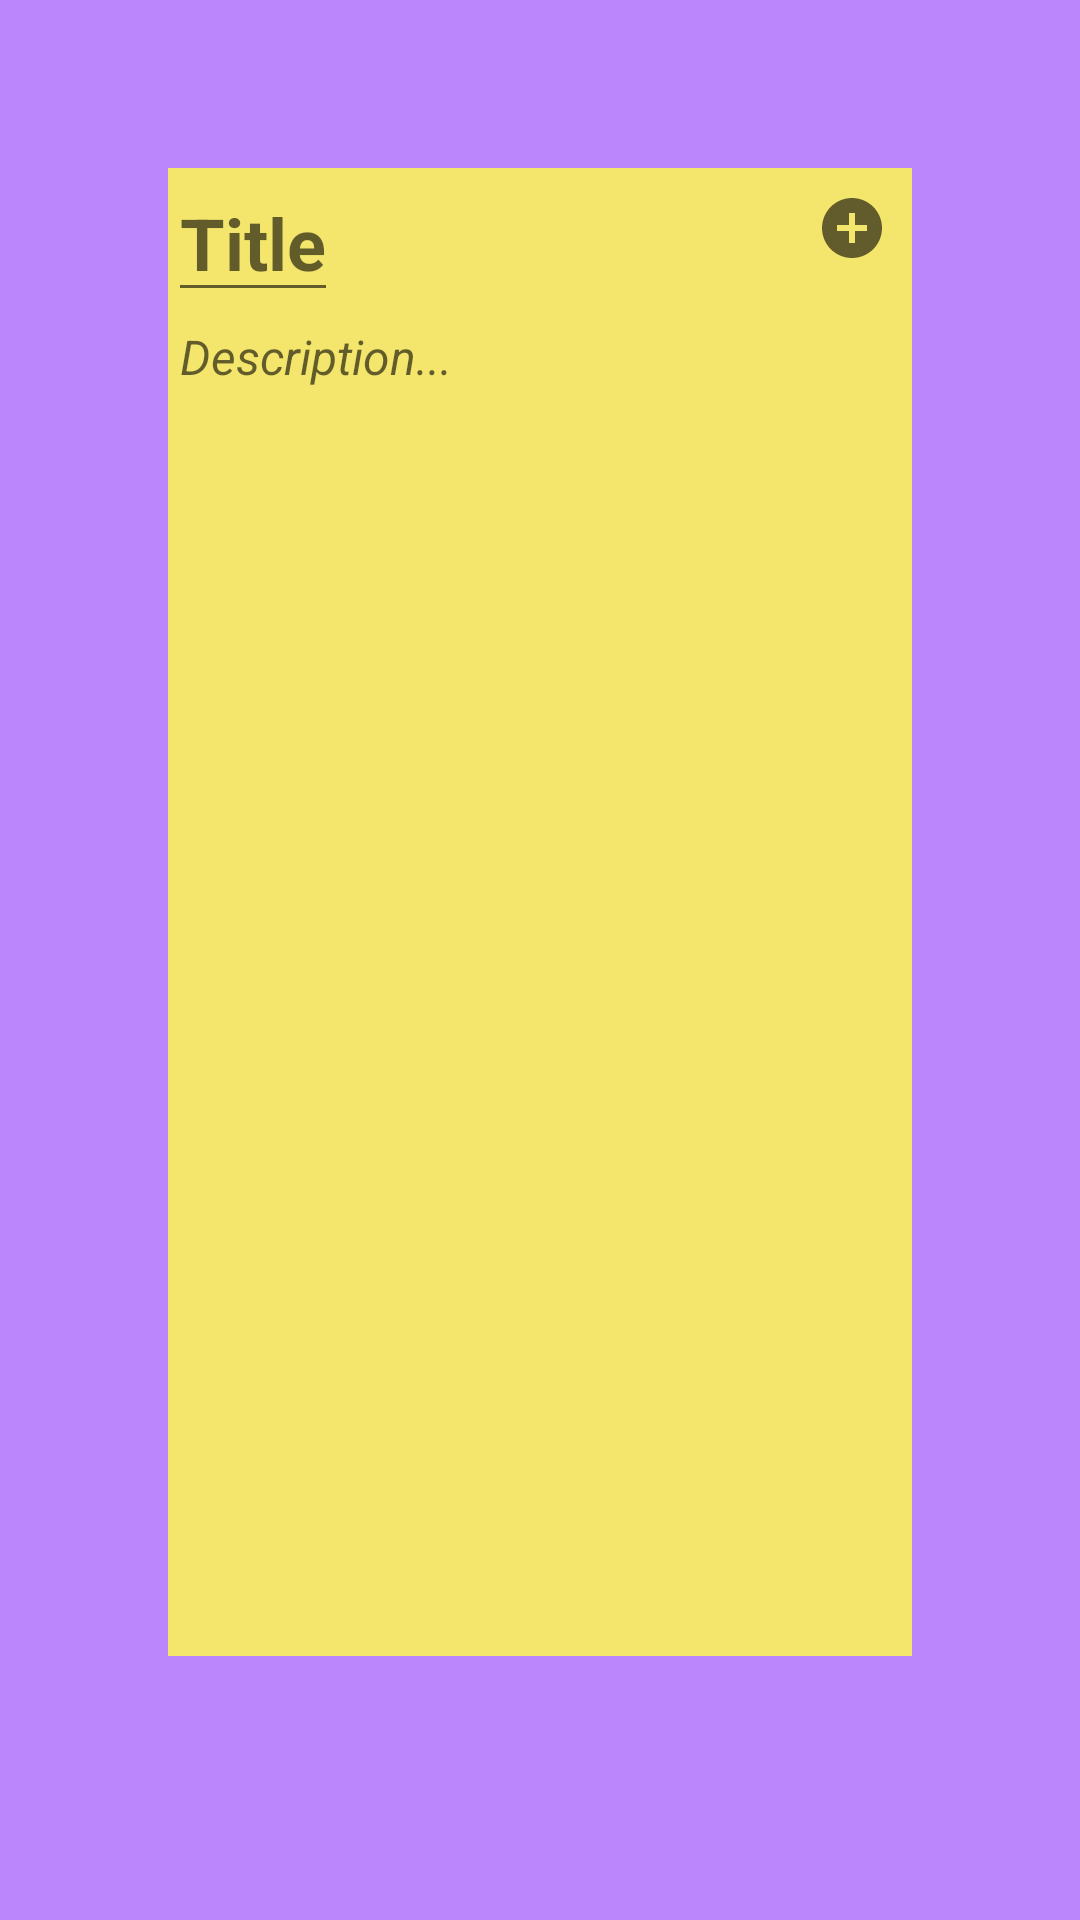

Named icons in this screenshot (1080w x 1920h) and their bounding boxes, (x1=x1, y1=y1, x2=x2, y2=y2):
add circle: (x1=822, y1=198, x2=882, y2=258)
